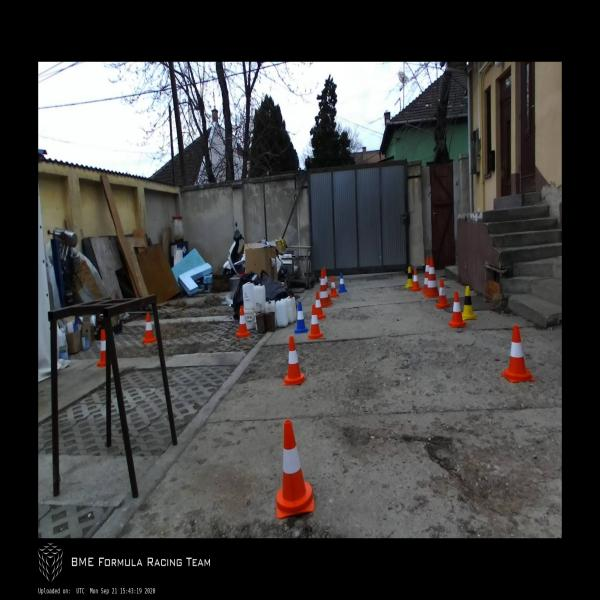blue_cone: (295, 302, 308, 333), (338, 272, 347, 293)
large_orange_cone: (425, 258, 439, 298), (320, 272, 332, 308), (421, 257, 430, 295), (323, 268, 332, 303)
orange_cone: (276, 420, 314, 518), (501, 326, 535, 383), (282, 336, 306, 386), (449, 292, 467, 328), (308, 305, 323, 339), (236, 306, 250, 337), (436, 278, 450, 308), (143, 312, 156, 343), (96, 330, 106, 367), (315, 292, 326, 320), (411, 269, 421, 291), (330, 276, 338, 298)
yellow_cone: (462, 286, 477, 320), (405, 266, 413, 288)
